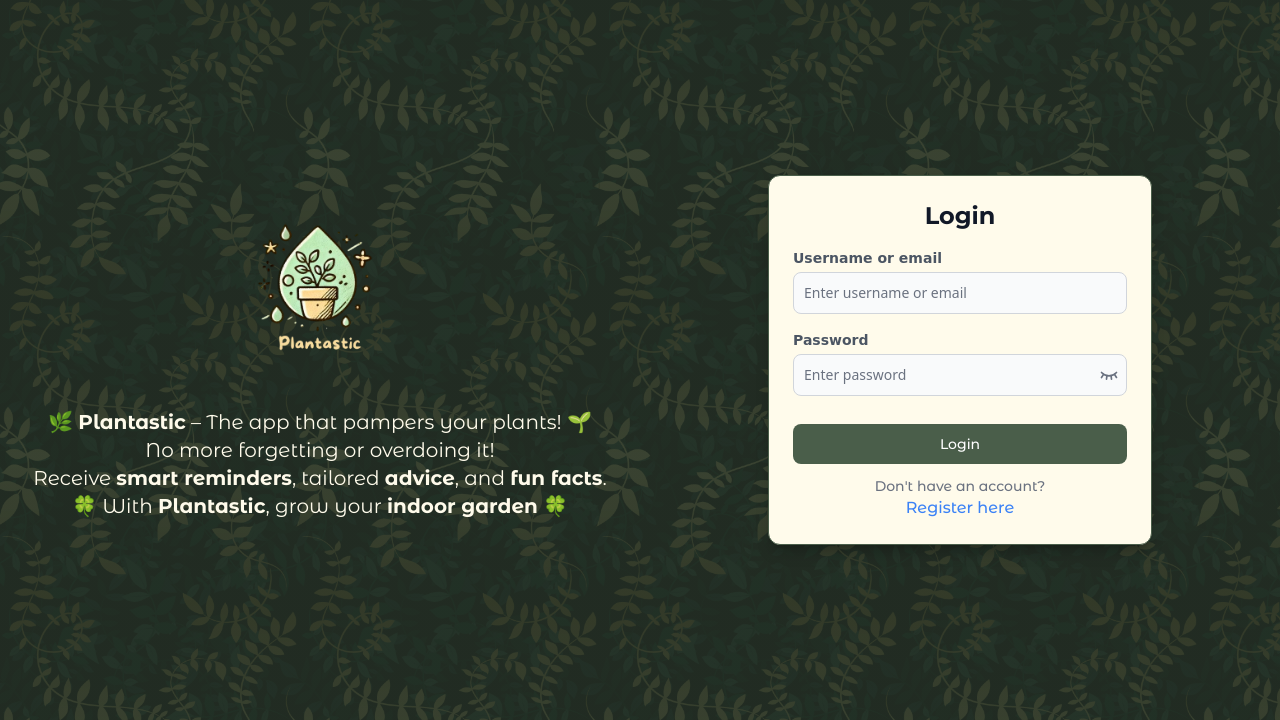
Test: should not login with wrong credentials
This screenshot has width=1280, height=720.
In the field with placeholder "Enter username or email": {"x": 960, "y": 293} [793,272,1127,314], type "wrongemail@example.coom"
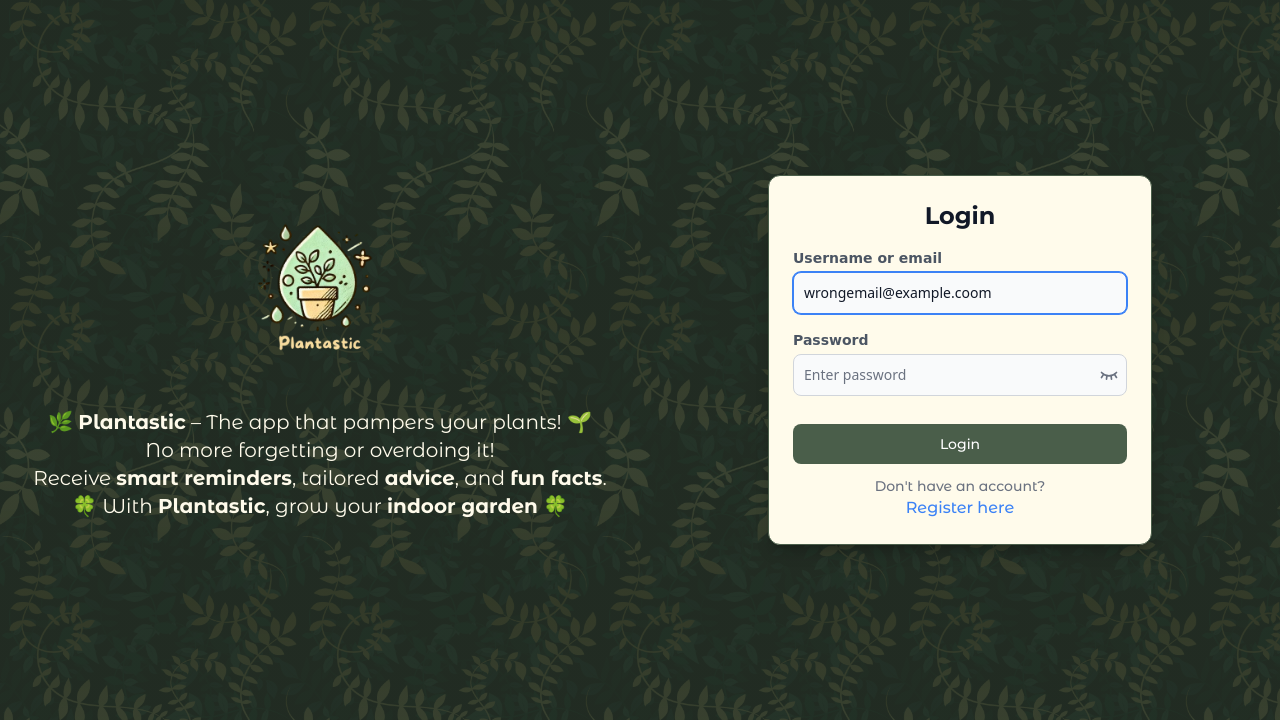
In the password field with placeholder "Enter password": {"x": 960, "y": 375} [793,354,1127,396], type "wrongpassword"
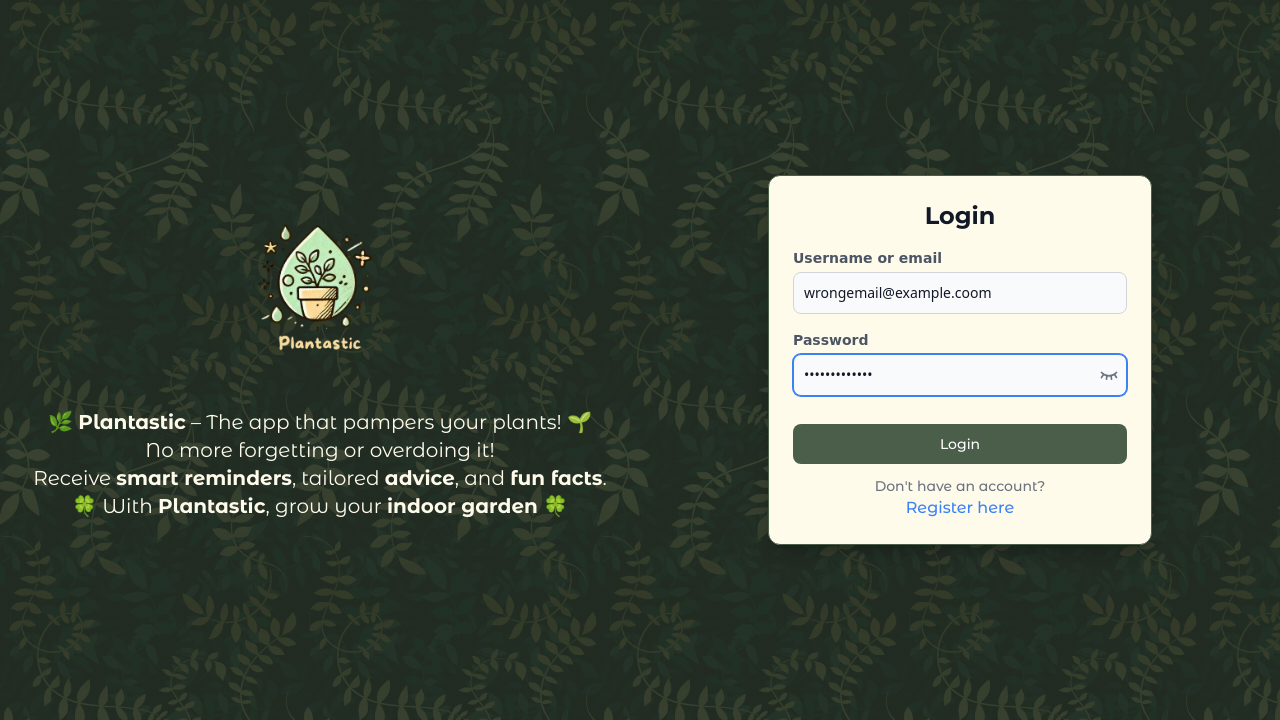
Click the button "Login": {"x": 960, "y": 444} [793,424,1127,464]
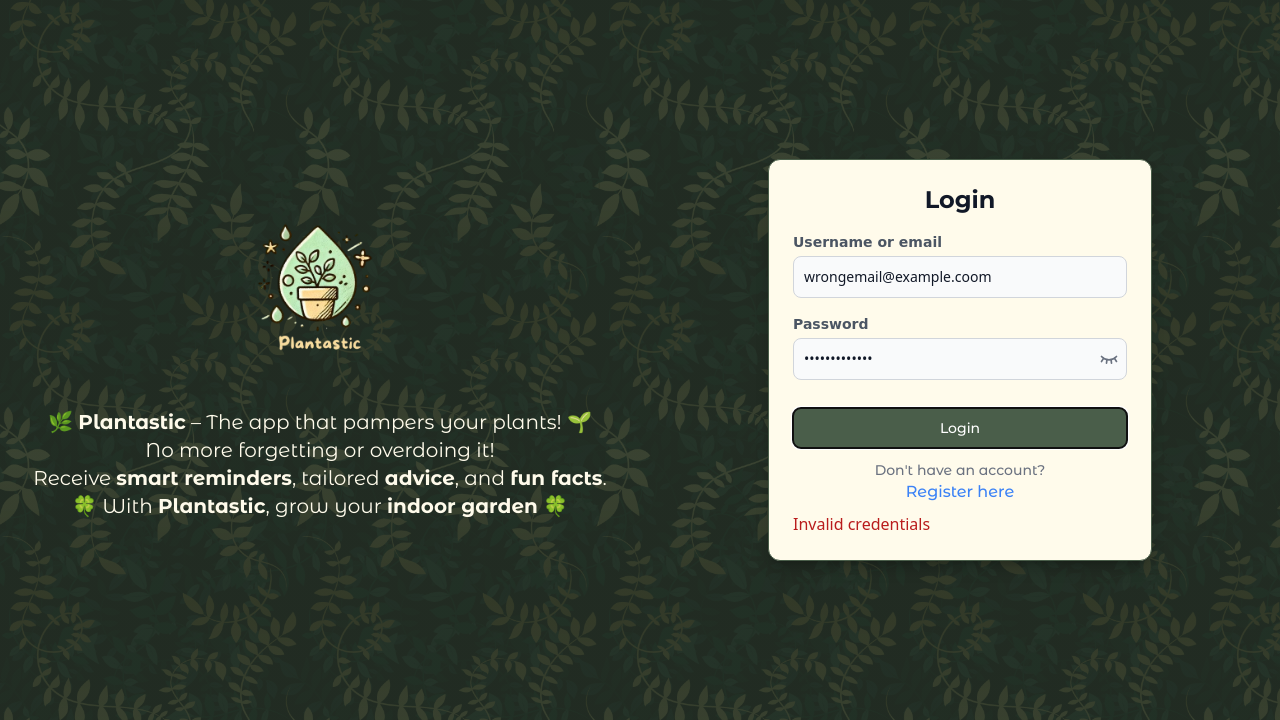
expect the text "Invalid credentials" is shown: met, box [793,513,930,535]
